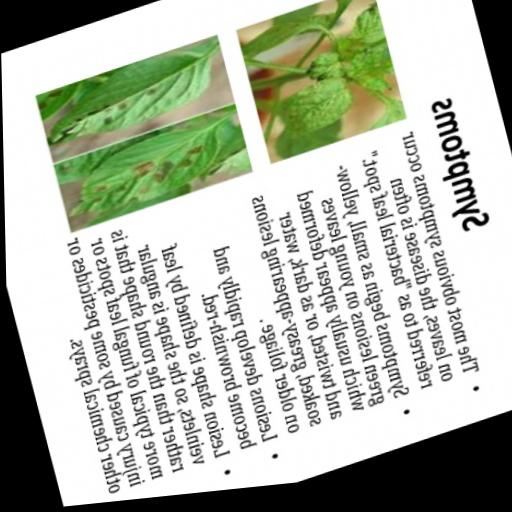Bacterial Spot: (44, 41, 230, 153), (63, 113, 246, 223)
Spider Mites: (264, 75, 354, 150)
